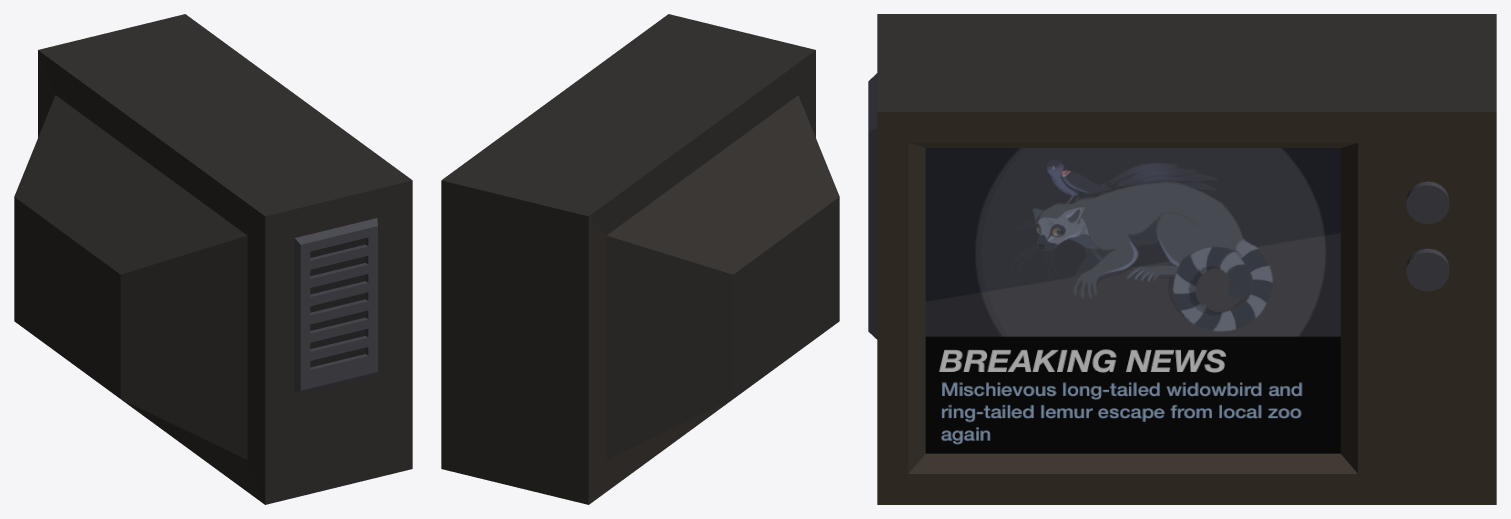
The model's file is TVNews.fbx.
3 views of the same model, side by side, from view 1: azimuth 30°, elevation 25°; view 2: azimuth 150°, elevation 25°; view 3: azimuth 270°, elevation 25° (orthographic). The views are drawn at different scales.
Visible parts, largest first — view 1: TV_Full; view 2: TV_Full; view 3: TV_Full.
Part boxes in pixels (box(x1,y1,x2,y2)): TV_Full: box(14, 14, 412, 504); TV_Full: box(441, 14, 839, 504); TV_Full: box(868, 14, 1496, 504).
Size of the model in its own units: 7.98 by 9.27 by 13.44.
